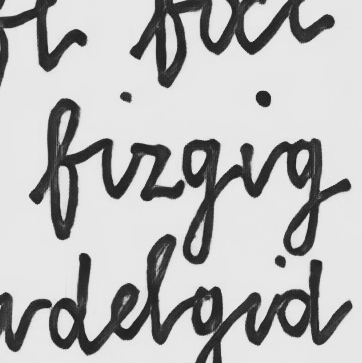f: (45, 95, 83, 241)
g: (179, 134, 222, 266), (280, 134, 324, 257)
i: (95, 130, 119, 202), (233, 138, 260, 201)
z: (128, 139, 174, 204)
